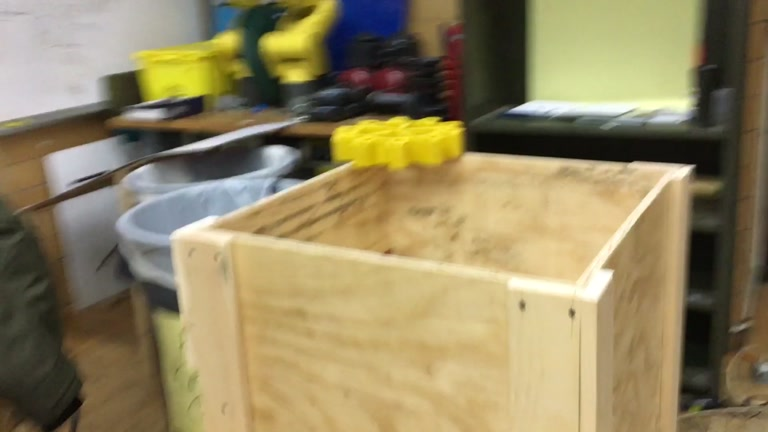gear: (332, 112, 465, 171)
